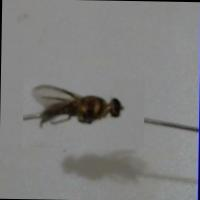Oriental-fruit-fly: (22, 76, 144, 148)
